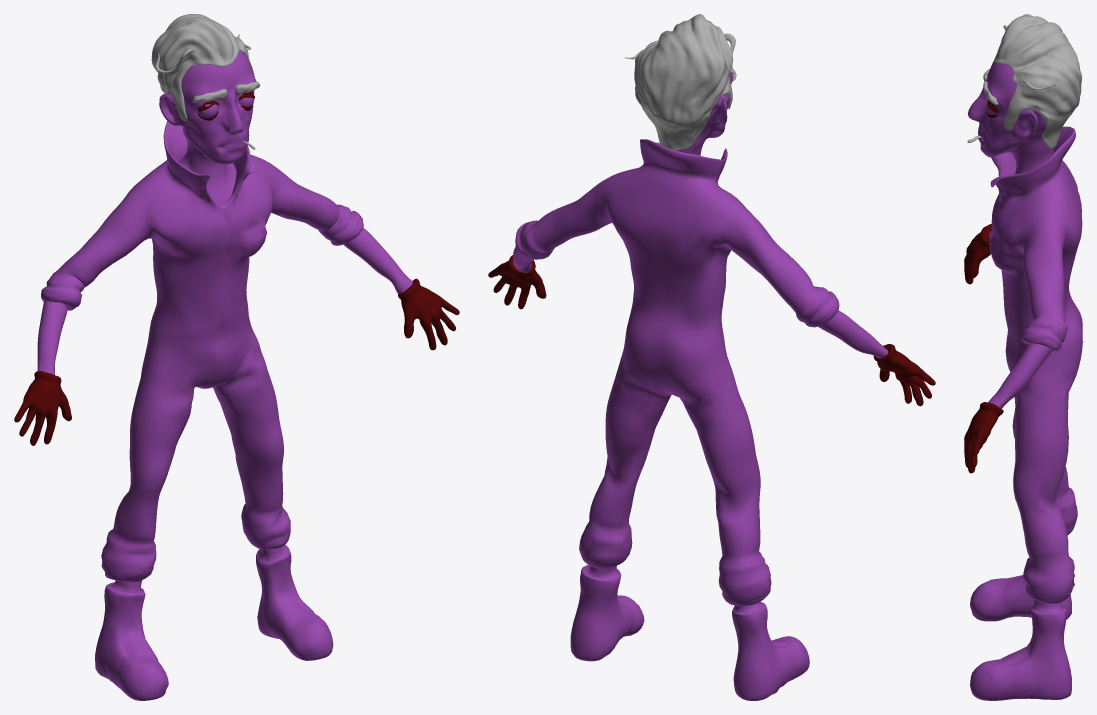
The model's file is PlayercharacterV3.fbx.
3 renders of one model, left to right at view 1: azimuth 30°, elevation 25°; view 2: azimuth 150°, elevation 25°; view 3: azimuth 270°, elevation 25°, orthographic. The views are drawn at different scales.
Visible parts, largest first — view 1: suit, body, hair, righthand, lefthand; view 2: suit, body, hair, righthand, lefthand; view 3: suit, body, hair, lefthand, righthand.
Part boxes in pixels (x1,y1,x2,y2): suit: (41, 121, 363, 582); body: (37, 50, 412, 700); hair: (151, 14, 254, 120); righthand: (14, 371, 71, 445); lefthand: (398, 278, 459, 350); suit: (515, 139, 839, 606); body: (513, 72, 888, 700); hair: (634, 14, 733, 150); righthand: (873, 344, 935, 406); lefthand: (488, 255, 546, 309); suit: (988, 126, 1082, 603); body: (968, 61, 1071, 700); hair: (994, 14, 1082, 148); lefthand: (964, 402, 1003, 473); righthand: (964, 224, 991, 284).
Bounding box in the file's own units: 140 × 196 × 33.18.
